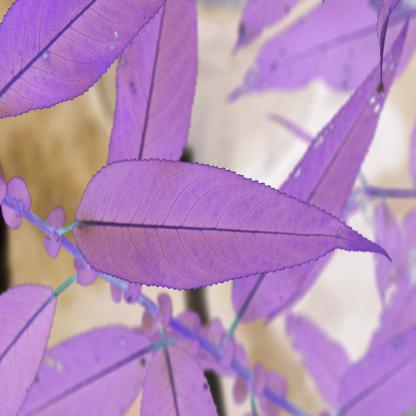Peach leaf: (72, 153, 391, 299)
